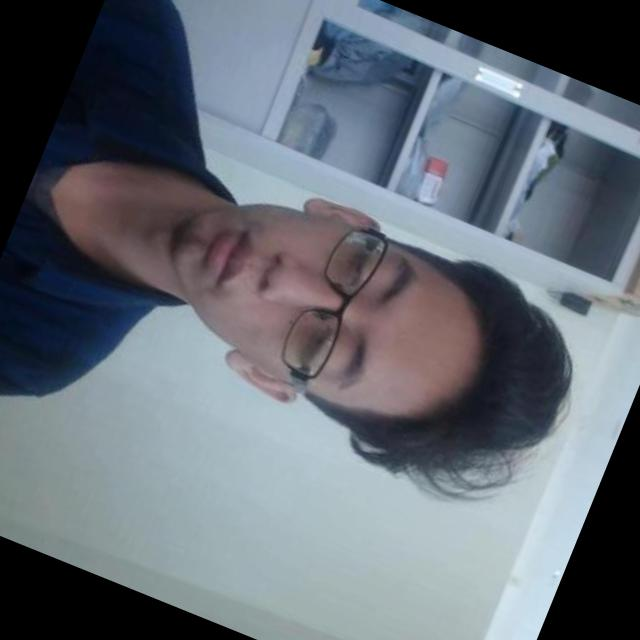bareface: (115, 149, 606, 509)
